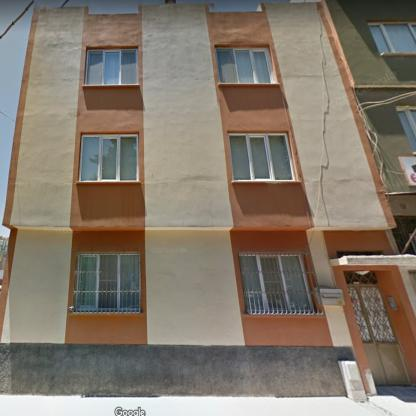door: (347, 284, 411, 385)
window: (240, 254, 312, 312), (74, 254, 140, 312), (228, 132, 297, 180), (78, 133, 137, 181), (216, 46, 275, 82), (85, 47, 137, 84), (367, 22, 413, 52), (395, 106, 414, 151), (344, 271, 377, 284)
